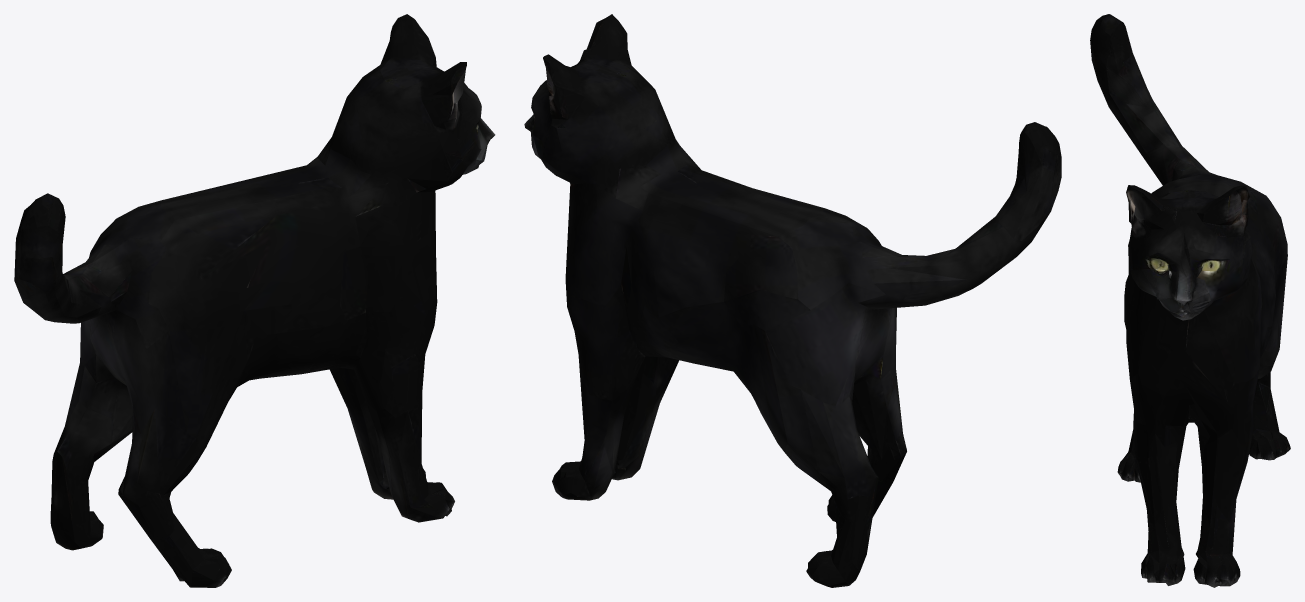
Rendered from THACKERY-lo.glb.
The picture shows the model from 3 angles, left to right: view 1: azimuth 30°, elevation 25°; view 2: azimuth 150°, elevation 25°; view 3: azimuth 270°, elevation 25°; orthographic projection. The views are drawn at different scales.
Parts seen in each view (by area): view 1: output_unwrapped; view 2: output_unwrapped; view 3: output_unwrapped.
Part boxes in pixels (<box>): output_unwrapped: <box>14,14,495,587</box>; output_unwrapped: <box>524,14,1061,587</box>; output_unwrapped: <box>1090,14,1290,587</box>.
Size of the model in its own units: 1.17 by 1 by 0.4504.
1 material, 1 textured.
